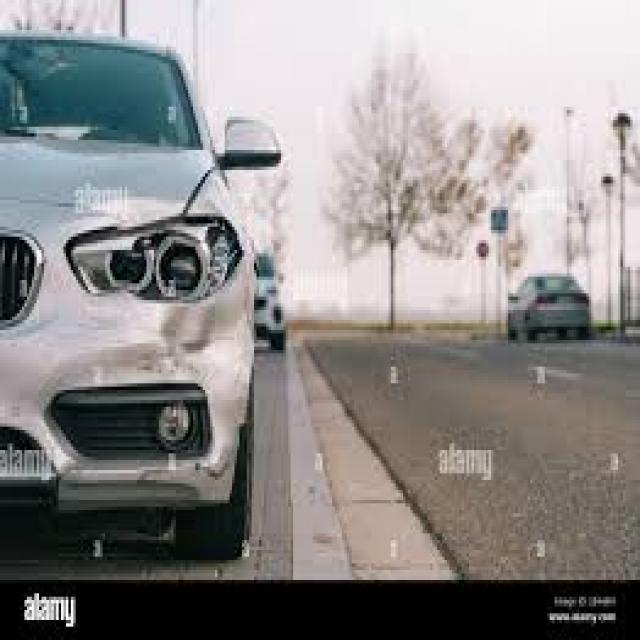damaged-head-light: (74, 213, 240, 302)
